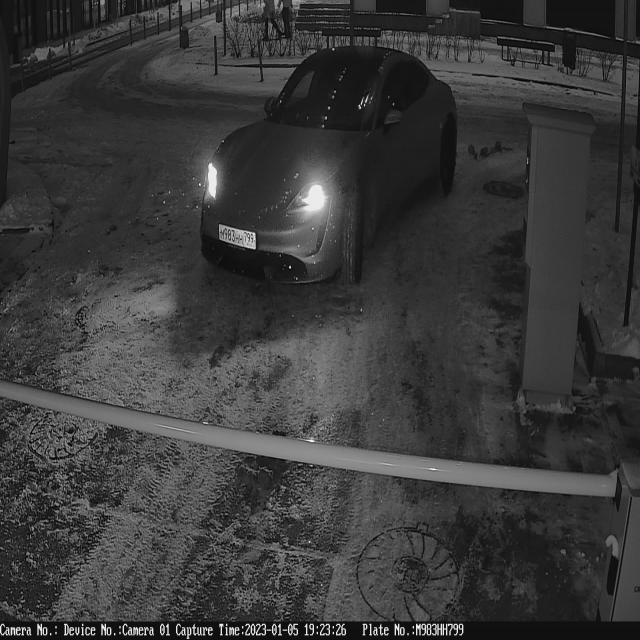car-plate-numbers: (217, 223, 260, 254)
